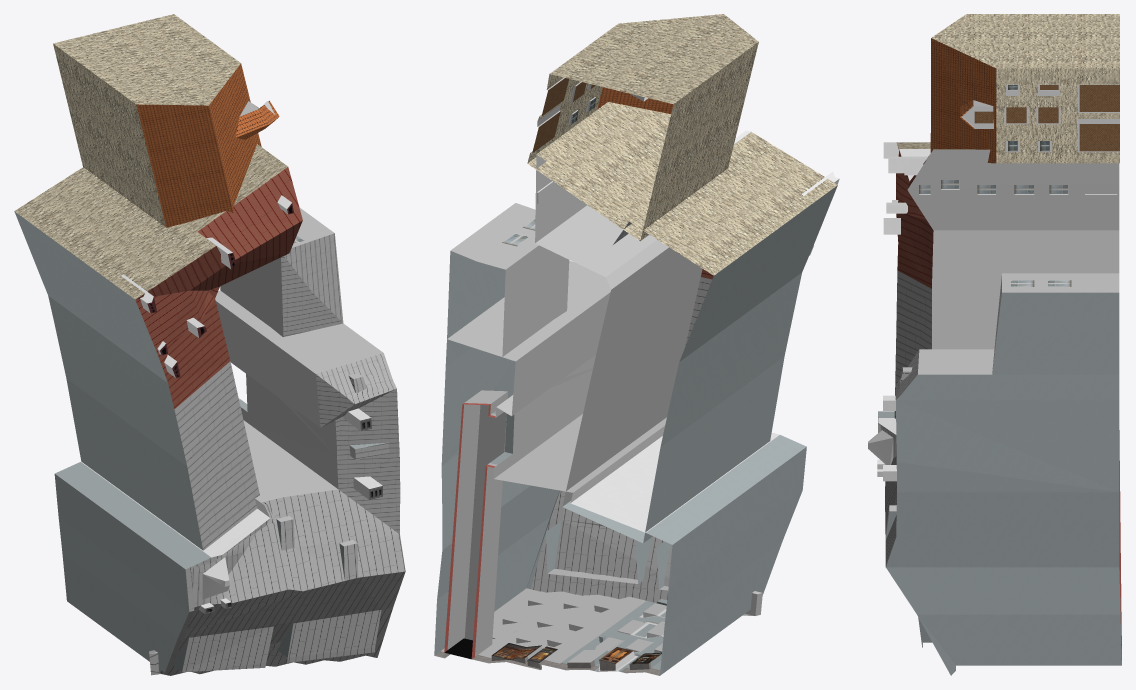
File: Viru_9-origo.obj
3 views of the same model, side by side, from view 1: azimuth 30°, elevation 25°; view 2: azimuth 150°, elevation 25°; view 3: azimuth 270°, elevation 25° (orthographic). The views are drawn at different scales.
Parts seen in each view (by area): view 1: Viru_9; view 2: Viru_9; view 3: Viru_9.
Part boxes in pixels (x1,y1,x2,y2): Viru_9: (14,14,405,675); Viru_9: (434,14,839,675); Viru_9: (868,14,1121,675).
Bounding box in the file's own units: 26.12 × 55.5 × 22.92.
